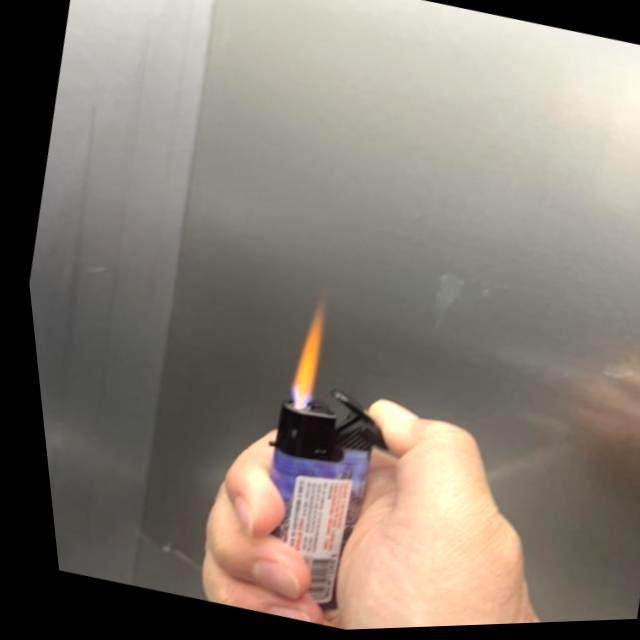fire: (270, 297, 332, 413)
